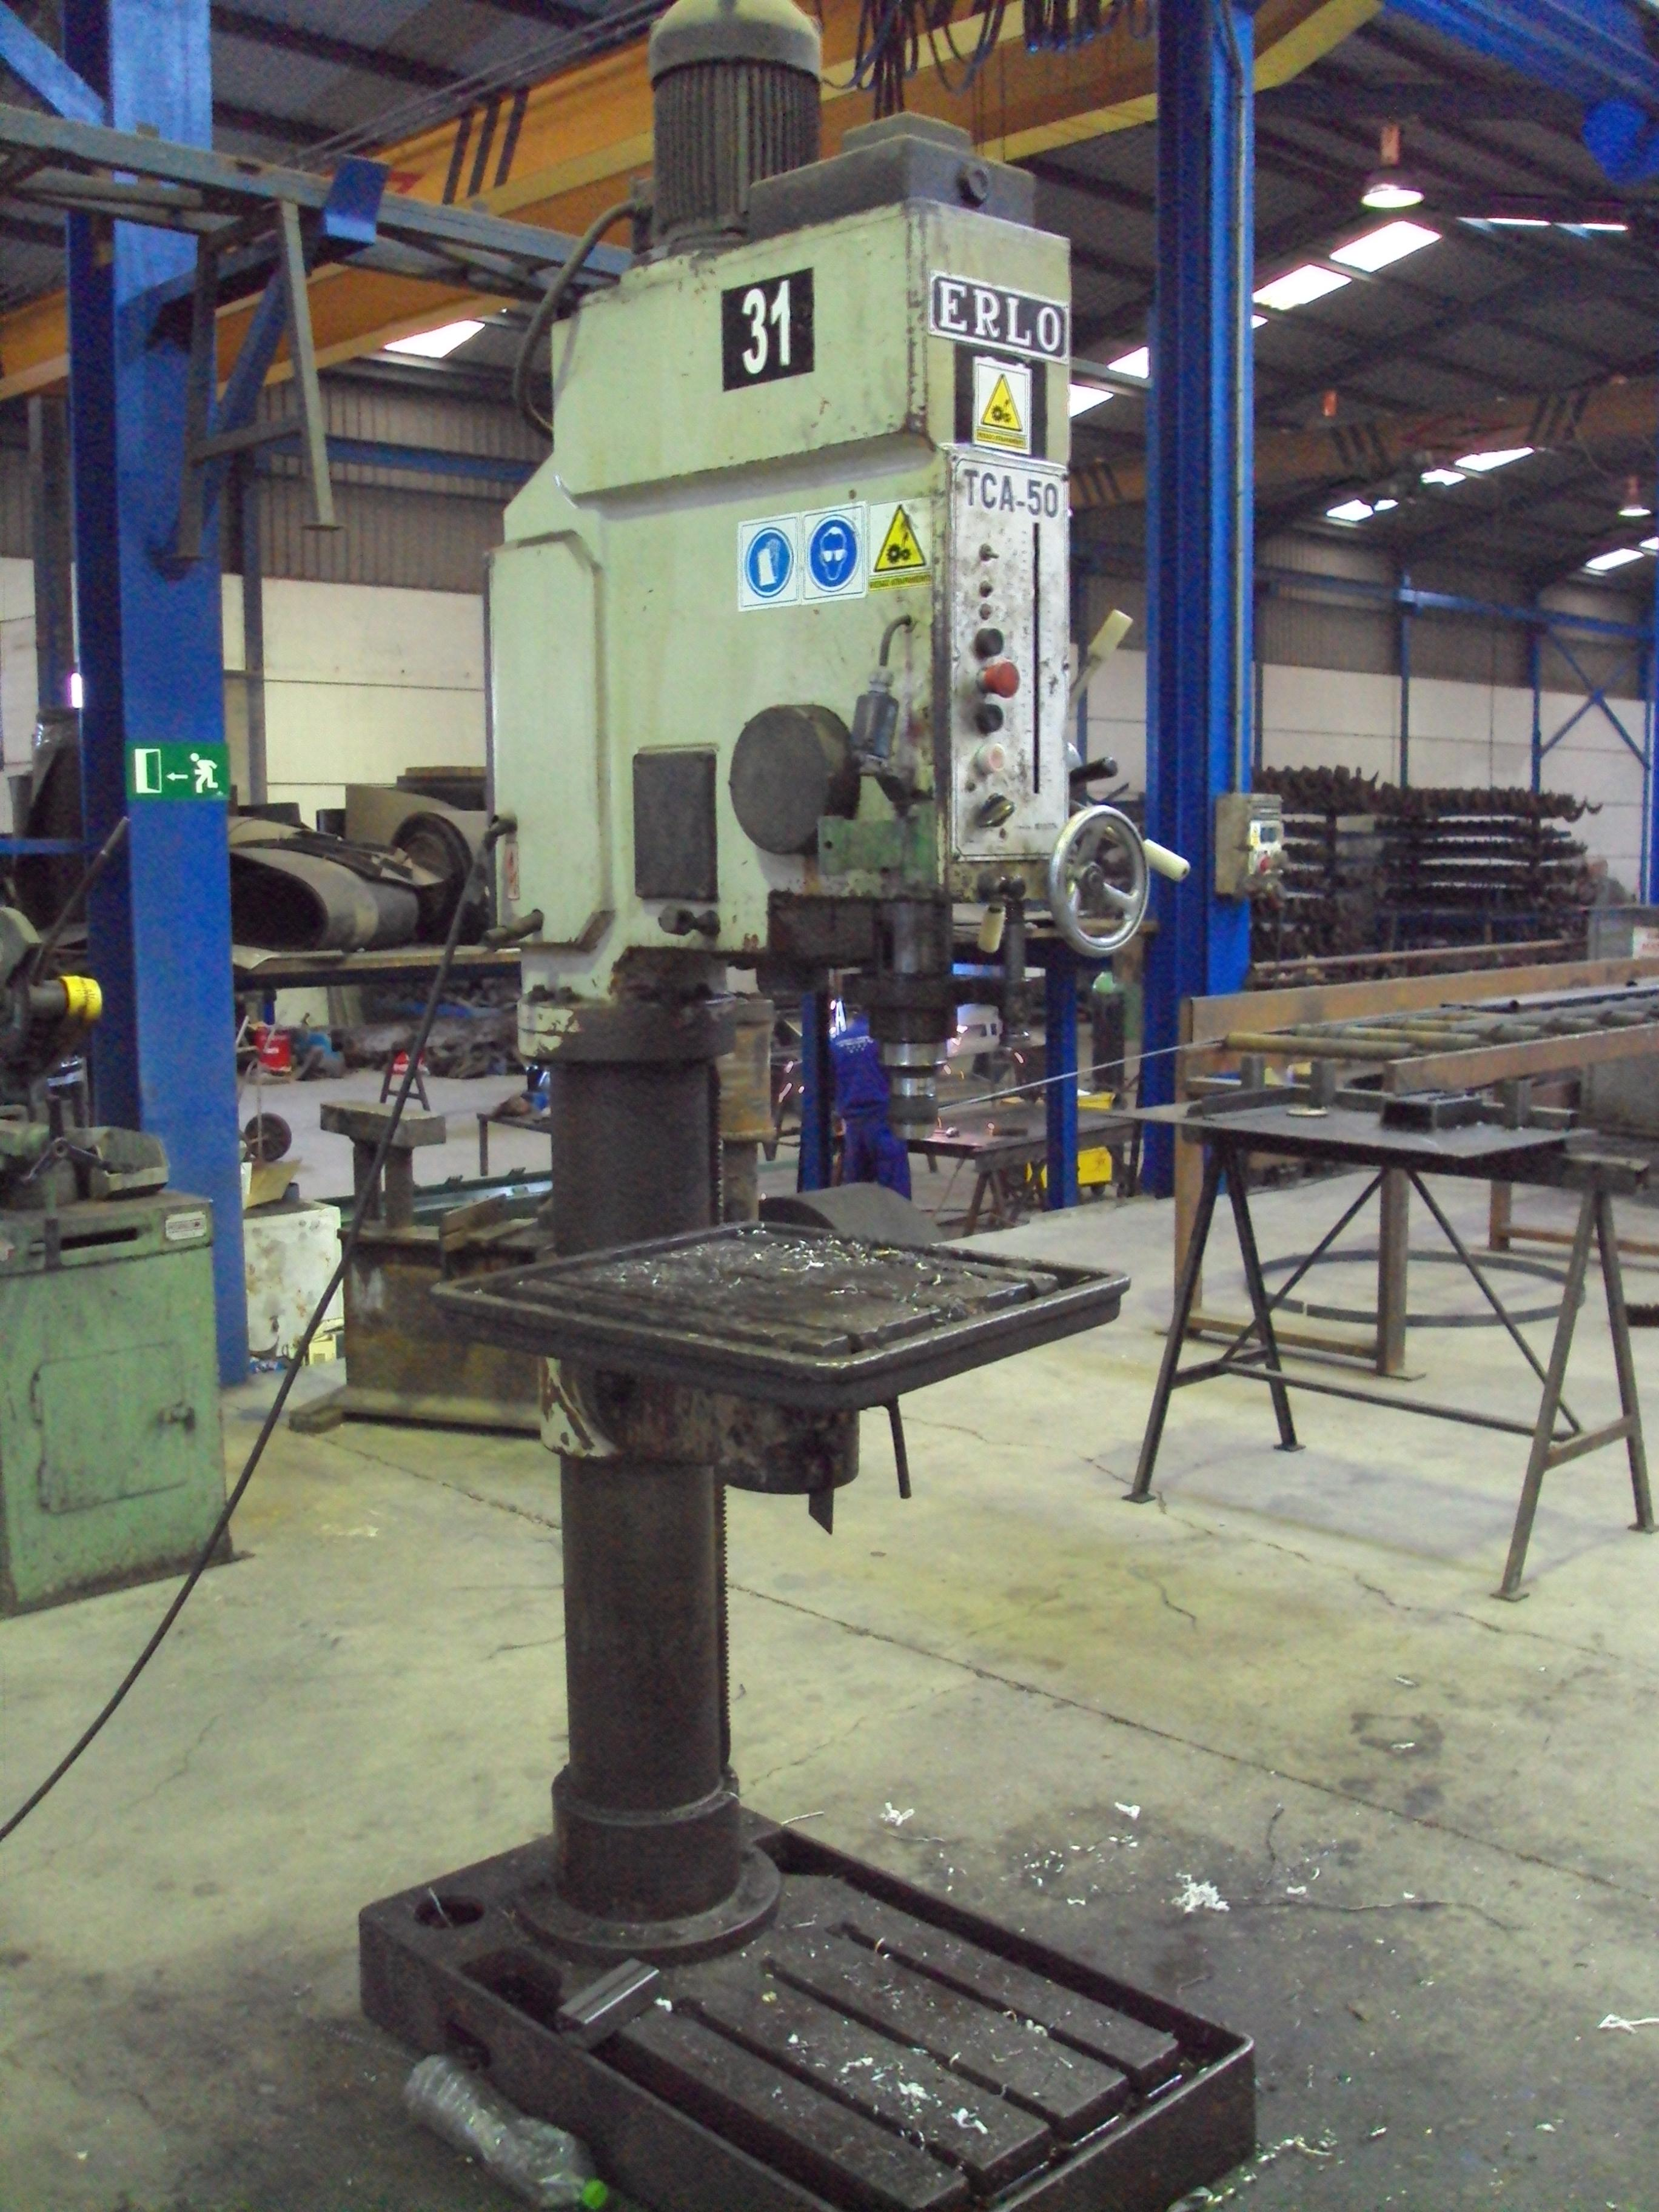falta_resguardo: (866, 885, 955, 1150)
mandos_inseguros: (932, 446, 1079, 862)
